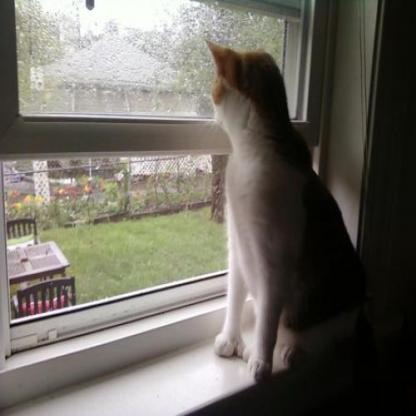Target: (201, 31, 392, 416)
